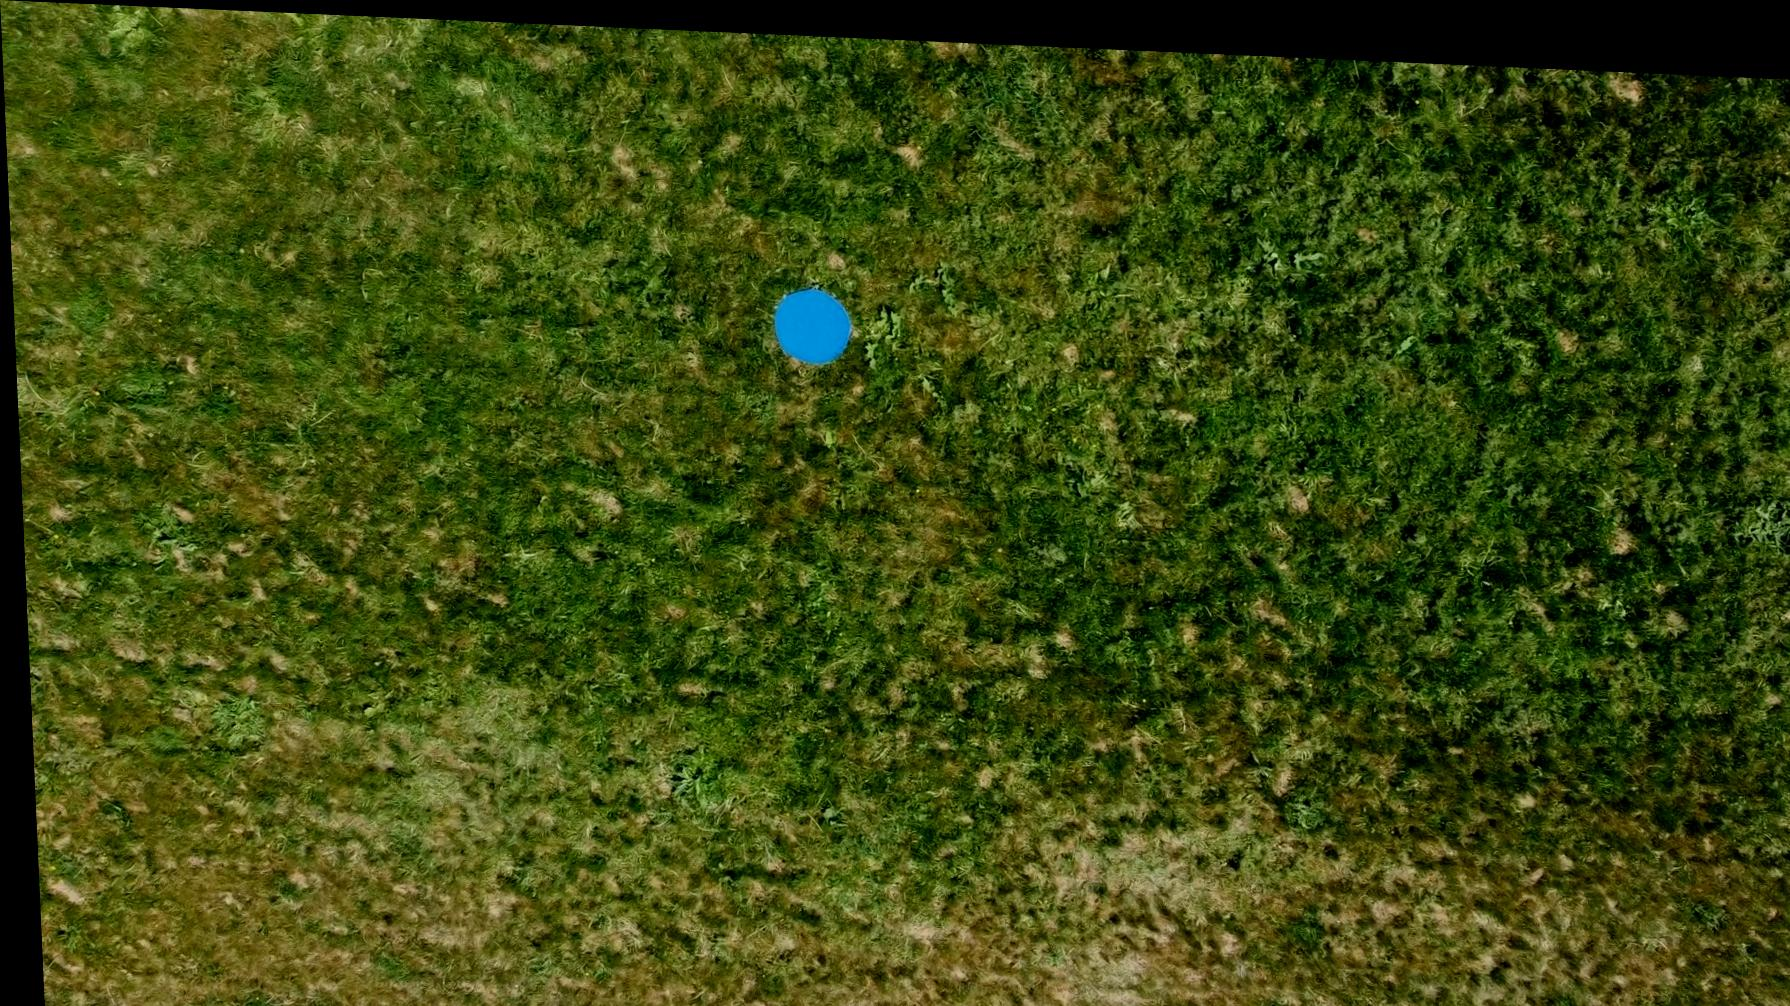Blue: (765, 272, 854, 363)
